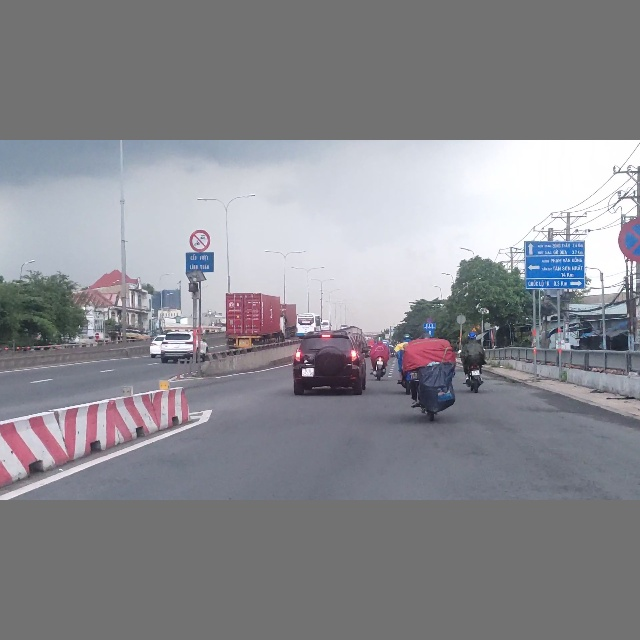P.102: (95, 333, 99, 338)
P.111: (189, 230, 211, 252)
P.130: (618, 216, 640, 262)
